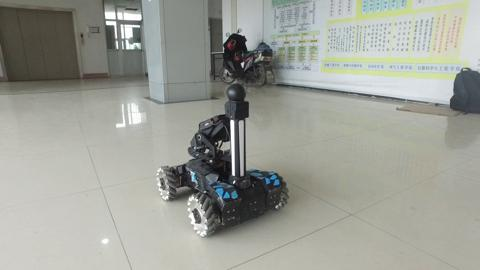bag: (444, 60, 480, 122)
chariot: (144, 84, 303, 242)
